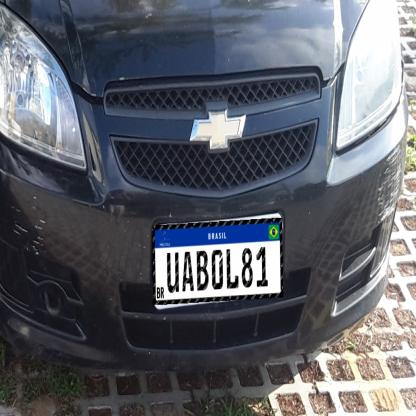PlacaM: (152, 218, 284, 305)
